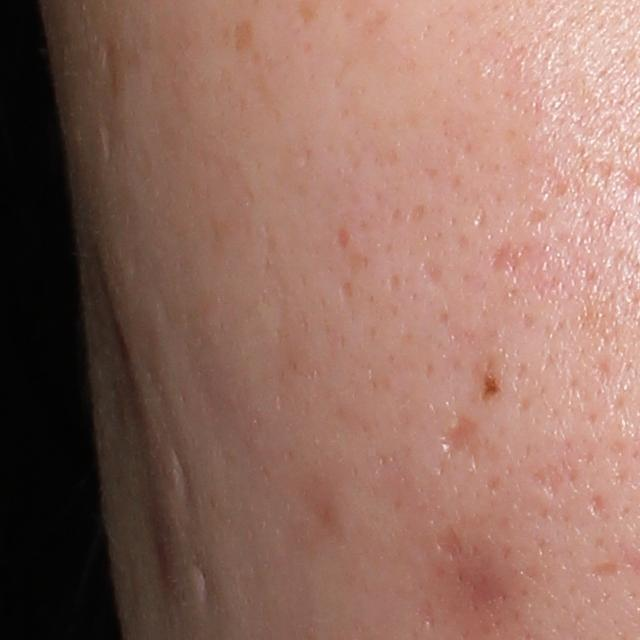atrophic_scar: (532, 461, 569, 500), (421, 258, 449, 286), (438, 528, 462, 554), (591, 494, 604, 518), (342, 282, 354, 304)
melasma: (231, 19, 258, 52)
